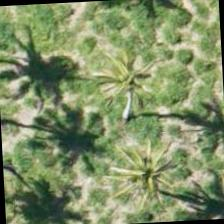Kelapa_Sawit: (89, 127, 184, 222), (68, 27, 162, 122)
